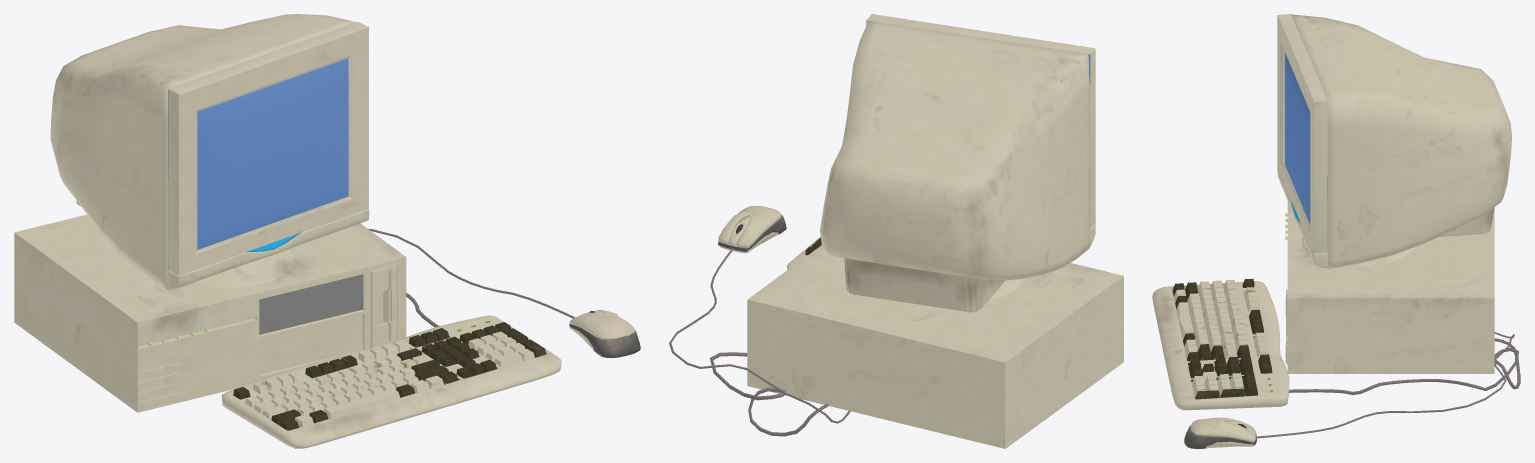
Rendered from old-computer.glb.
The picture shows the model from 3 angles, left to right: view 1: azimuth 30°, elevation 25°; view 2: azimuth 150°, elevation 25°; view 3: azimuth 270°, elevation 25°; orthographic projection. The views are drawn at different scales.
Parts seen in each view (by area): view 1: Old_Computer_Old_Computer_0, Old_Computer_Glass_0; view 2: Old_Computer_Old_Computer_0; view 3: Old_Computer_Old_Computer_0, Old_Computer_Glass_0.
Boxes of the visible parts, x1,y1,x2,y2 form: Old_Computer_Old_Computer_0: (14,14,640,448); Old_Computer_Glass_0: (196,58,350,250); Old_Computer_Old_Computer_0: (669,14,1123,448); Old_Computer_Old_Computer_0: (1152,14,1520,448); Old_Computer_Glass_0: (1281,46,1309,227).
Size of the model in its own units: 72.36 by 53.49 by 61.53.
2 materials, 1 textured.
